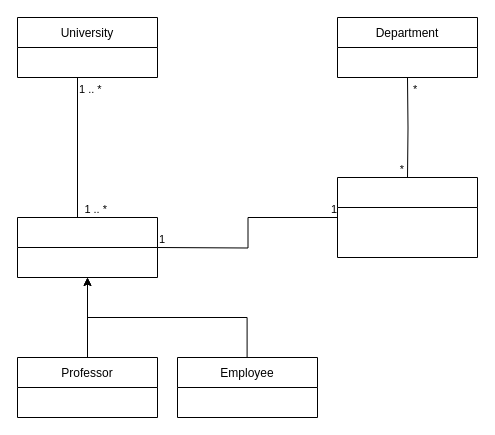
Some shapes in this 495 by 435 pixel diagram are drawn without their labels. The shapes that lost their labels are listed below. From the top down, each one's box as (x1, y1, x2, y2) in pixels, then its label:
(336, 176, 478, 258): Office
(16, 216, 158, 278): Worker
